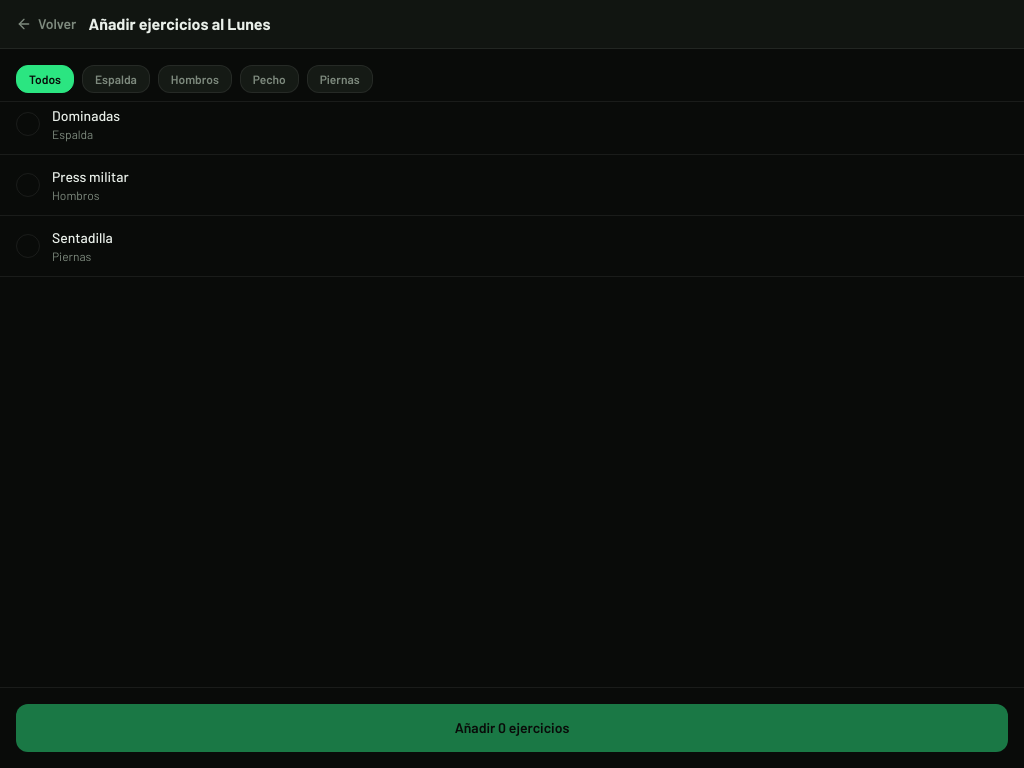
it: AddExercisesPage › add button shows count of selected exercises
Expected: the text "Press militar" is shown, [52,168,129,185]
Click the checkbox "Press militar" at (512, 186), box [0,155,1023,216]
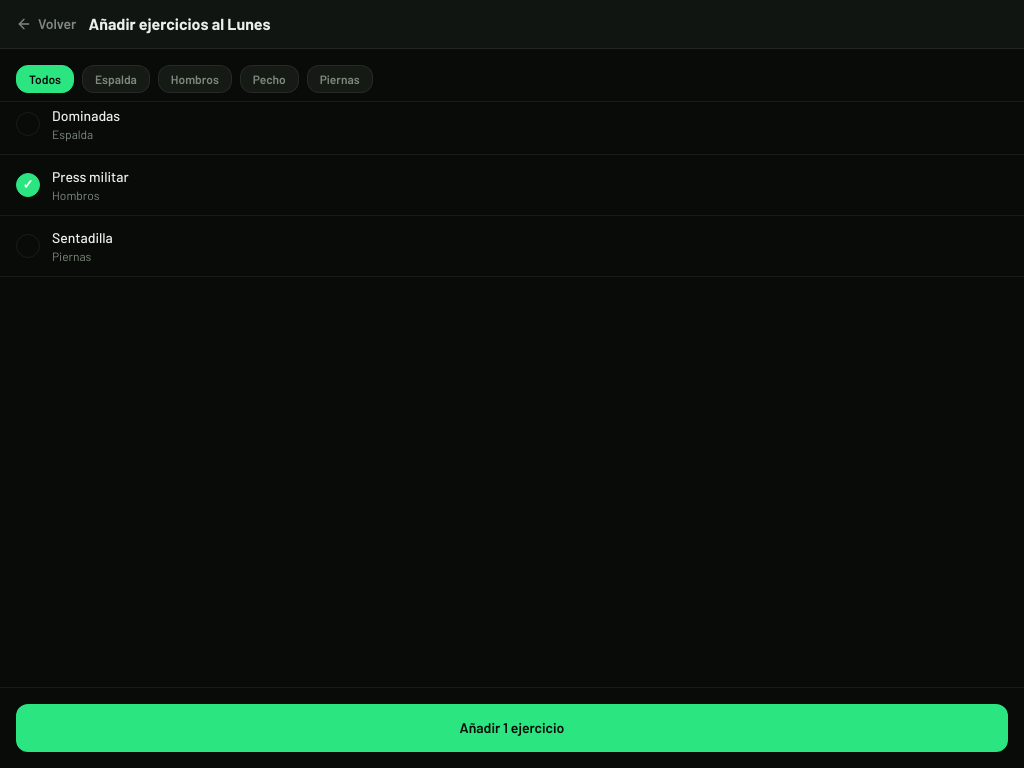
Now the button "Añadir 1 ejercicio" is shown, box [16,704,1008,752]
Click the checkbox "Dominadas" at (512, 124), box [0,94,1023,155]
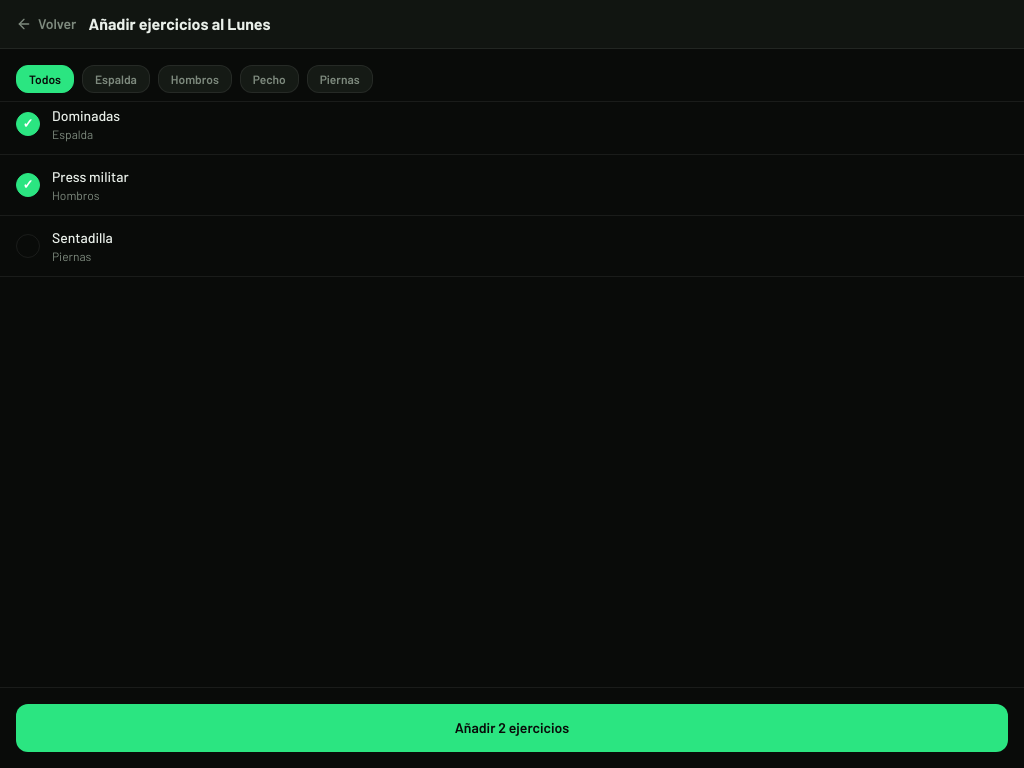
Now the button "Añadir 2 ejercicios" is shown, box [16,704,1008,752]
